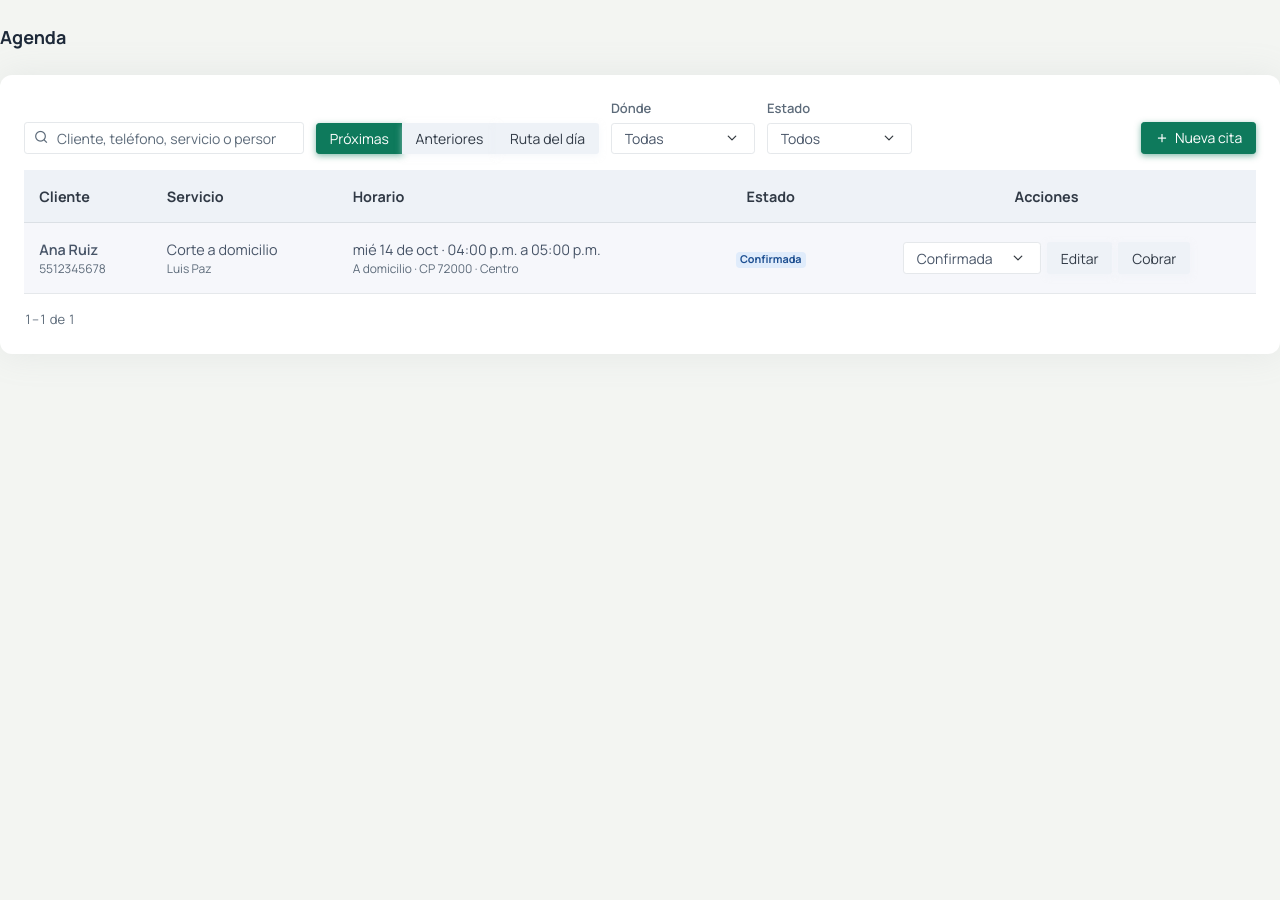
Scenario: AppointmentsList › keeps what was agreed at the same address, and says the customer hears of a new place
Click the button with aria-label "Editar o reprogramar la cita de Ana Ruiz": x=1080, y=258 top-left (1047, 242), bottom-right (1112, 274)
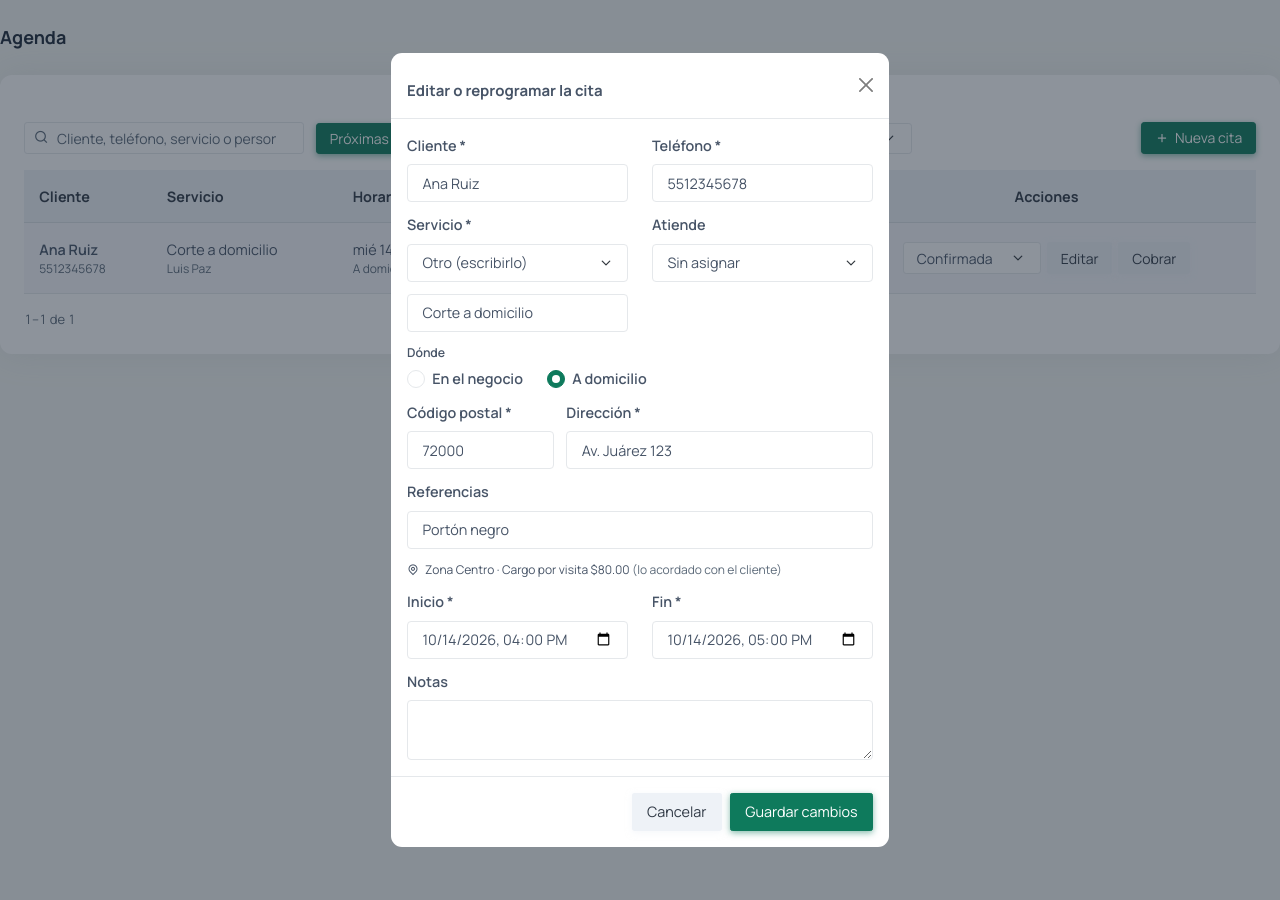
Expected: the text "el nuevo lugar" is not shown
Result: the text "Zona Centro · Cargo por visita $80.00" shows "(lo acordado con el cliente)" at top-left (630, 561), bottom-right (782, 578)
Clear the field labelled "Código postal *": x=481, y=450 top-left (407, 431), bottom-right (554, 469)
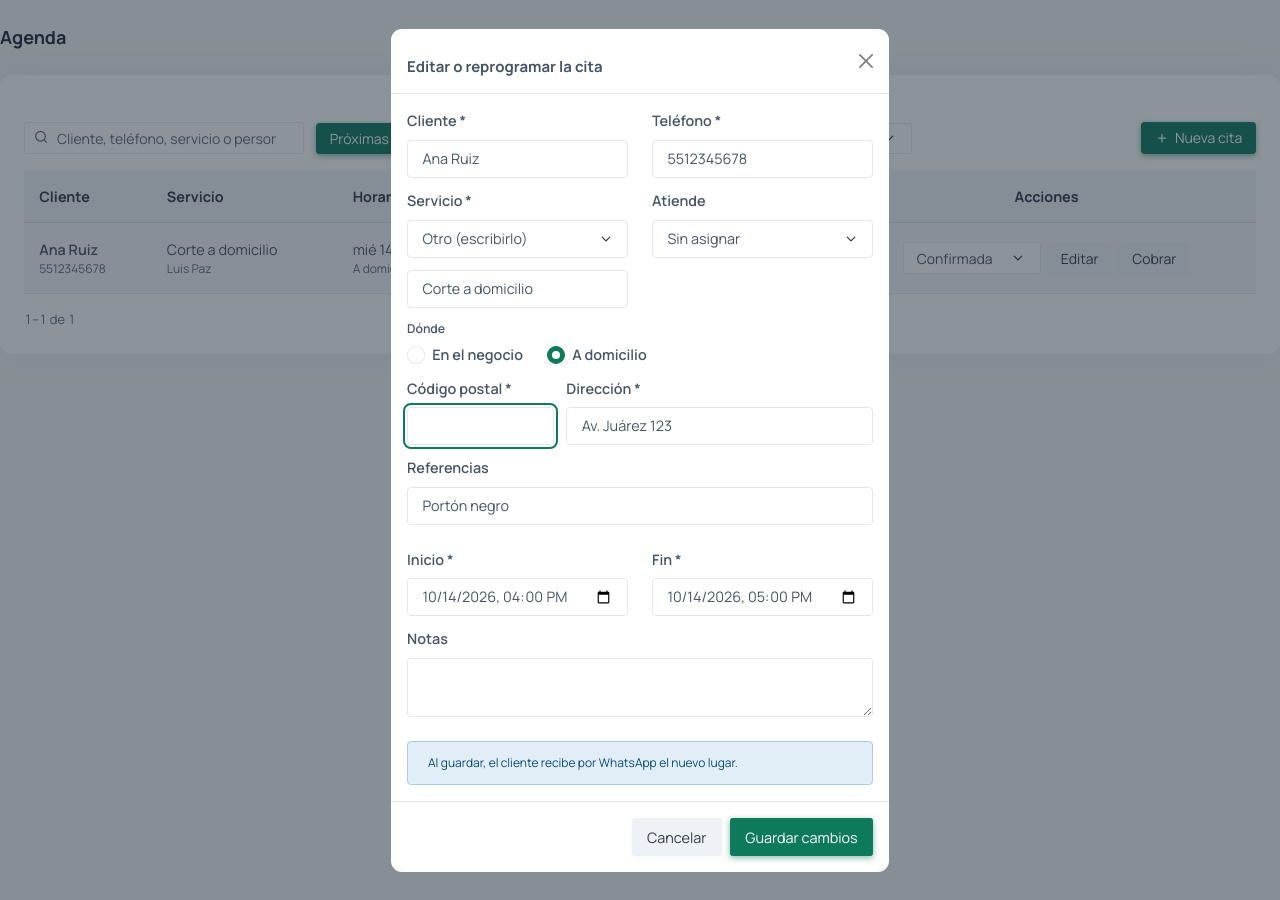
In the field labelled "Código postal *": x=481, y=426 top-left (407, 407), bottom-right (554, 445), type "72005"
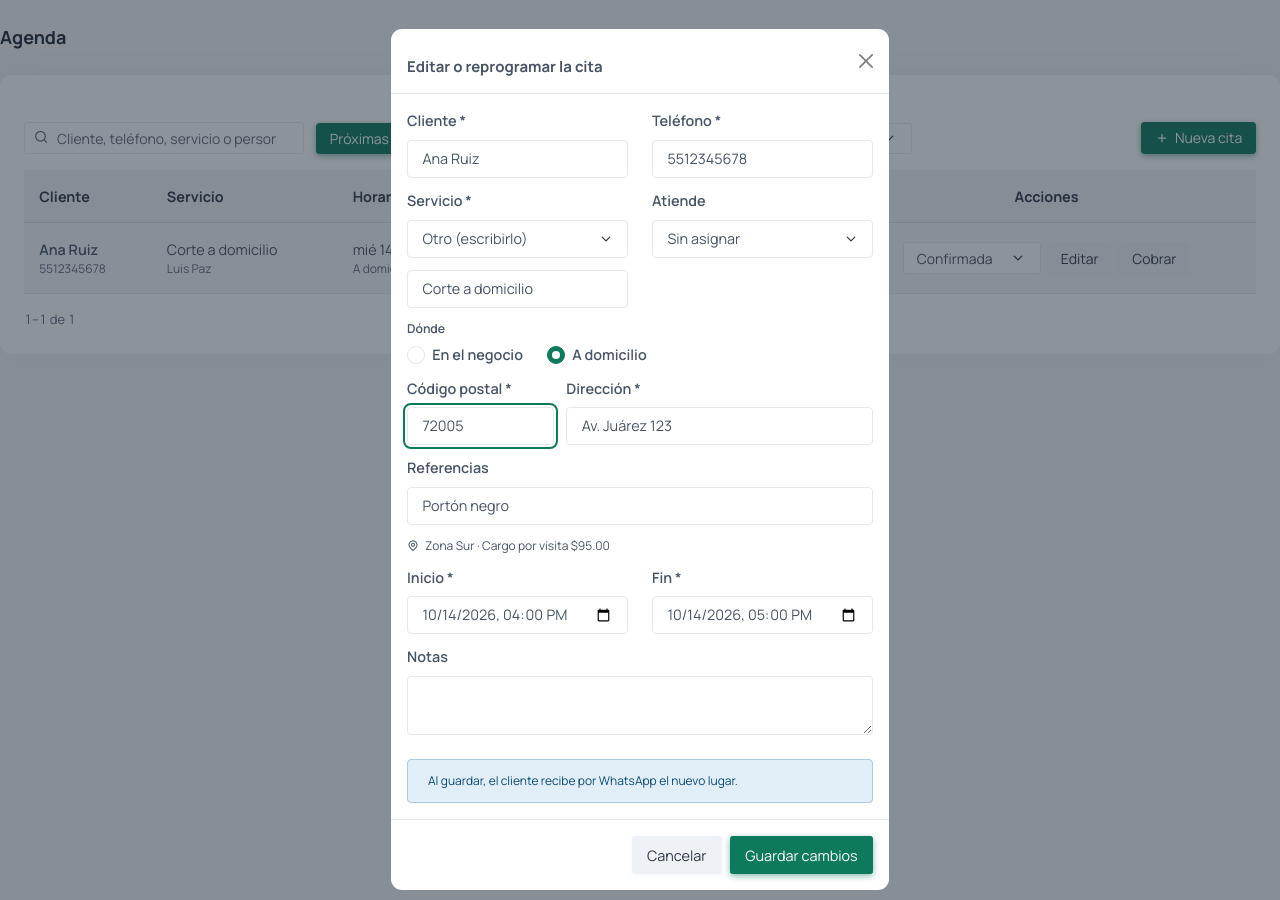
Result: the text "Al guardar, el cliente recibe por WhatsApp el nuevo lugar." is shown at top-left (407, 759), bottom-right (873, 803)
Result: the text "Zona Sur · Cargo por visita $95.00" is shown at top-left (407, 537), bottom-right (610, 554)
